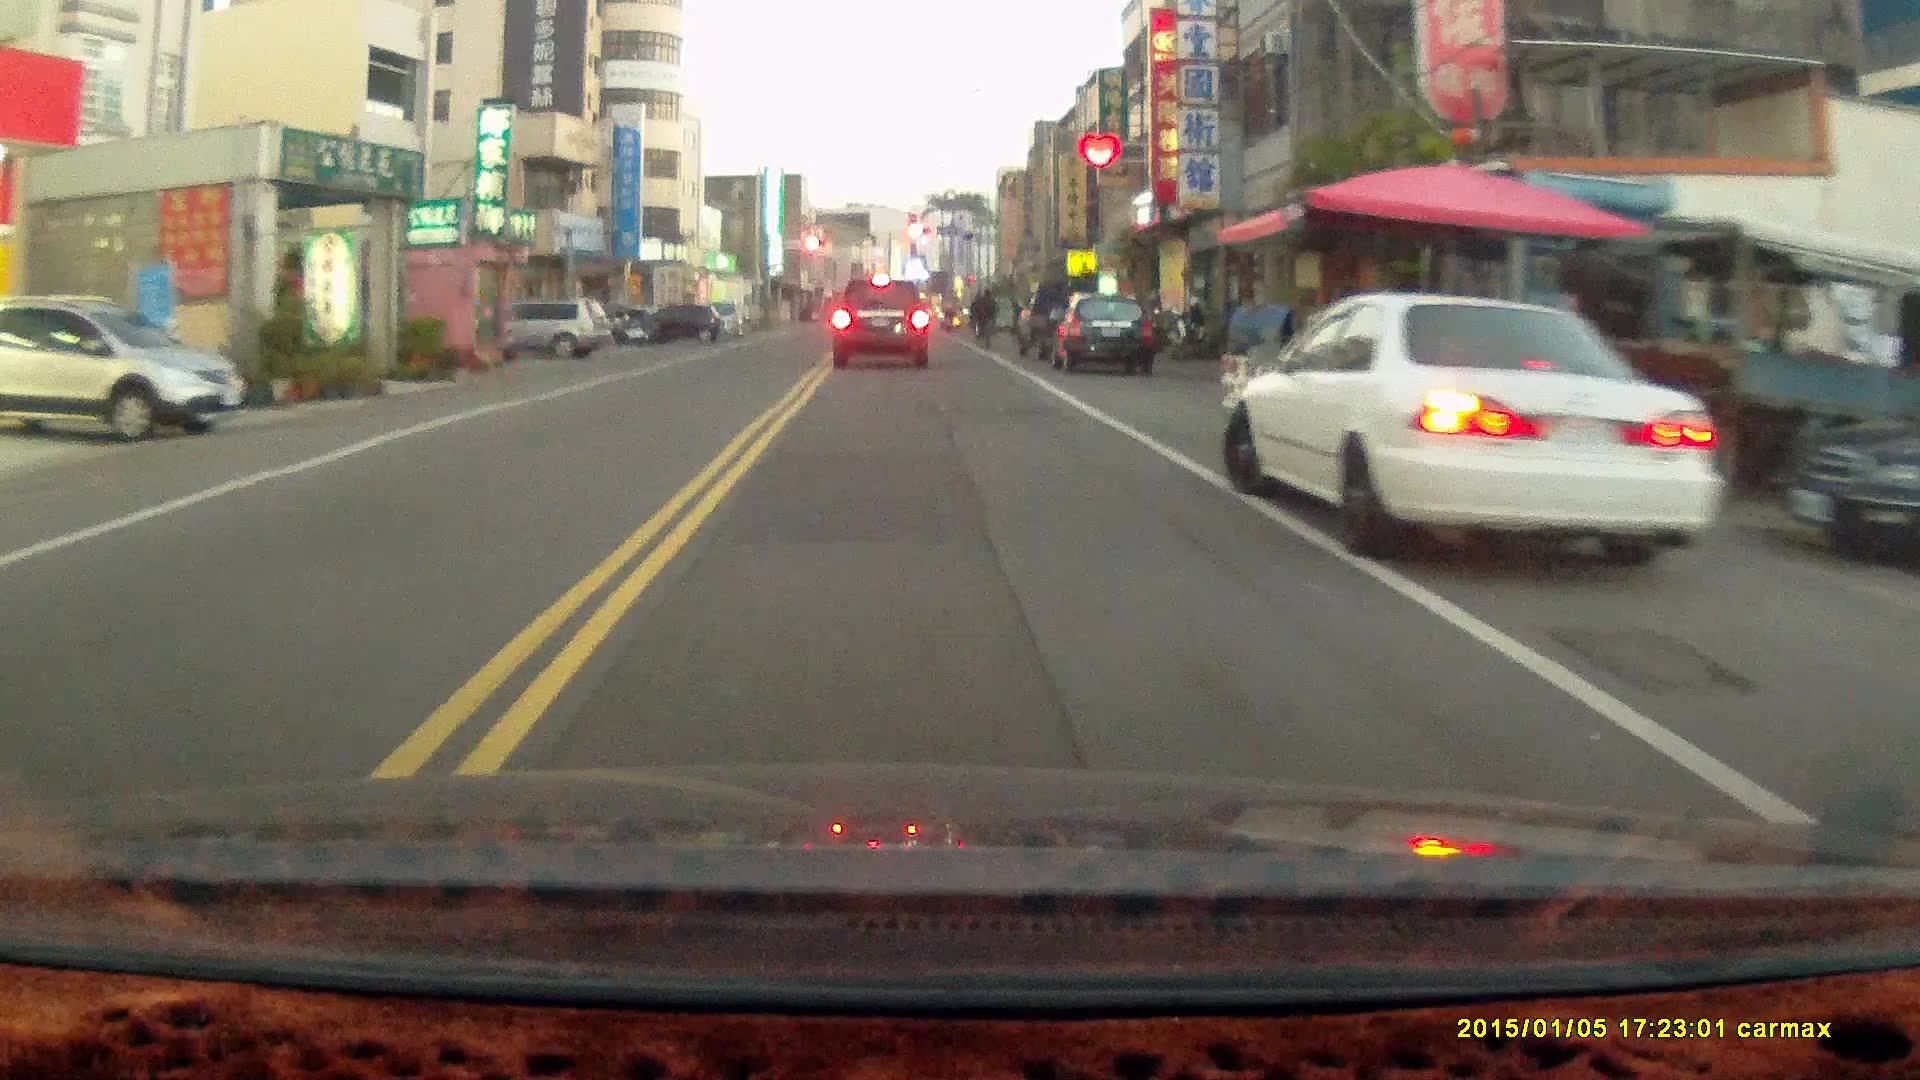rider: (970, 285, 1000, 351)
vehicle: (1226, 286, 1727, 570), (1, 287, 251, 441), (1782, 382, 1920, 579), (1049, 292, 1164, 376), (832, 274, 931, 370), (483, 298, 612, 359)
